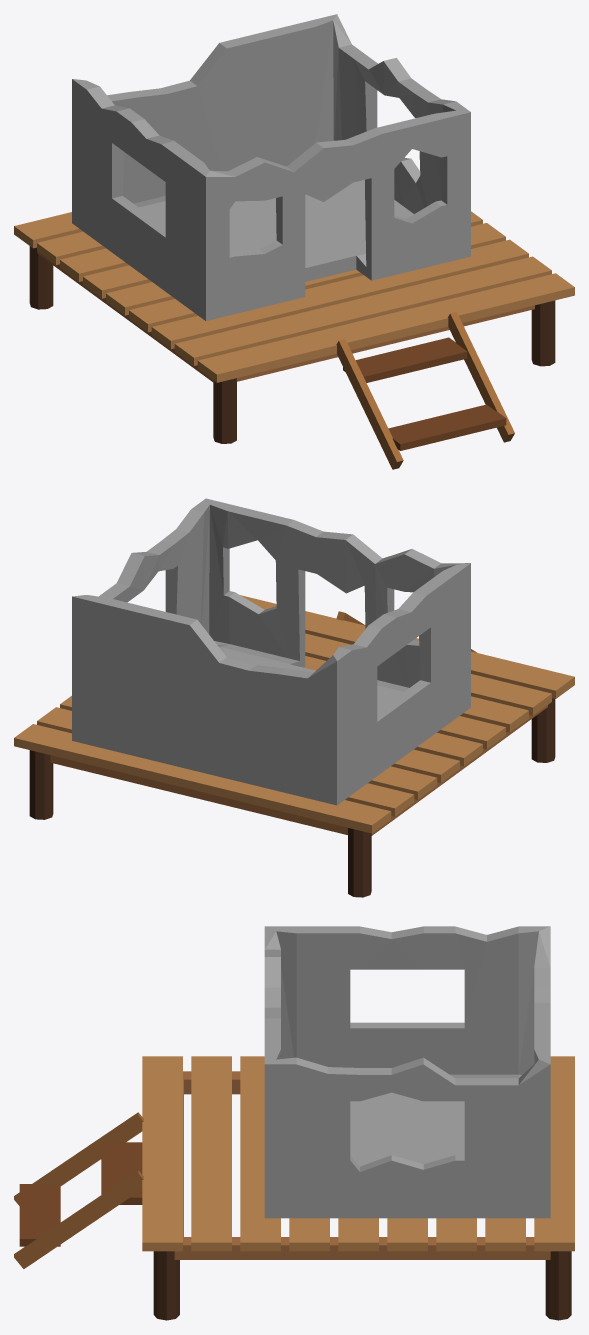
Rendered from Bungalowruins.fbx.
The picture shows the model from 3 angles, top to bottom: view 1: azimuth 30°, elevation 25°; view 2: azimuth 150°, elevation 25°; view 3: azimuth 270°, elevation 25°; orthographic projection. The views are drawn at different scales.
Visible parts, largest first — view 1: Cube; view 2: Cube; view 3: Cube.
Boxes of the visible parts, x1=… form: Cube: x1=14, y1=14, x2=574, y2=469; Cube: x1=14, y1=498, x2=574, y2=897; Cube: x1=14, y1=926, x2=574, y2=1320.
Size of the model in its own units: 2.7 by 1.64 by 3.44.
1 material, 1 textured.
